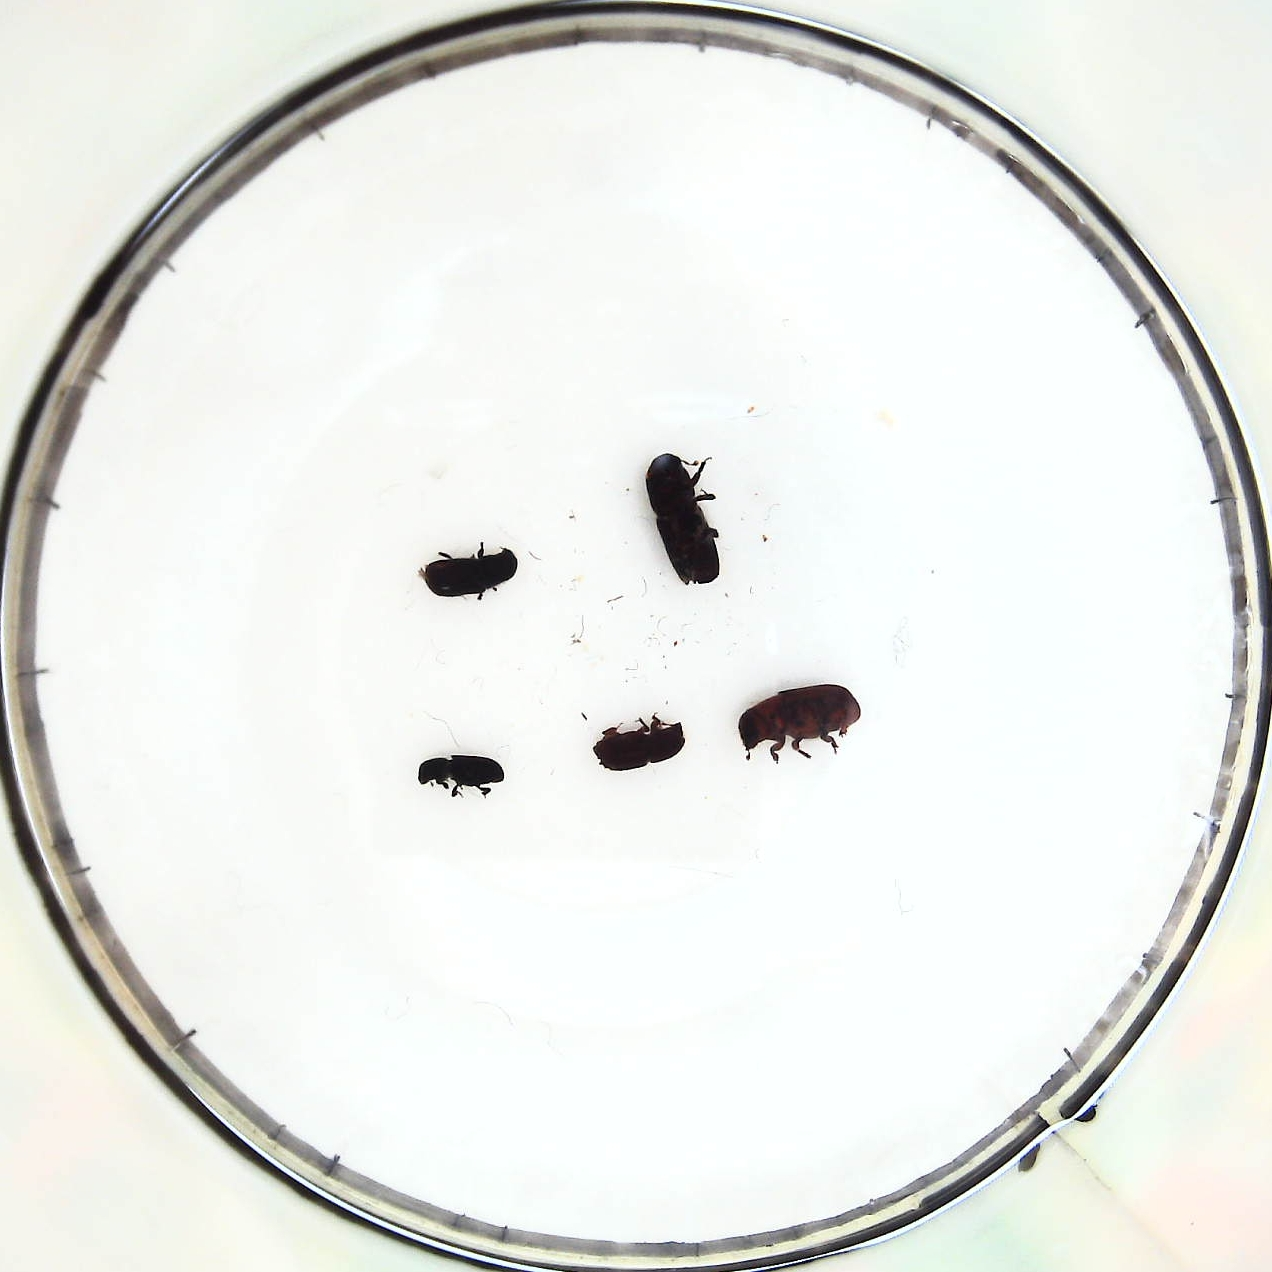Boerner: (644, 453, 727, 591)
Leconte: (739, 683, 865, 762)
Linnaeus: (591, 716, 687, 773)
armandi: (423, 545, 518, 599)
coleoptera: (415, 751, 508, 799)
